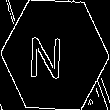N_N: (37, 29, 73, 81)
